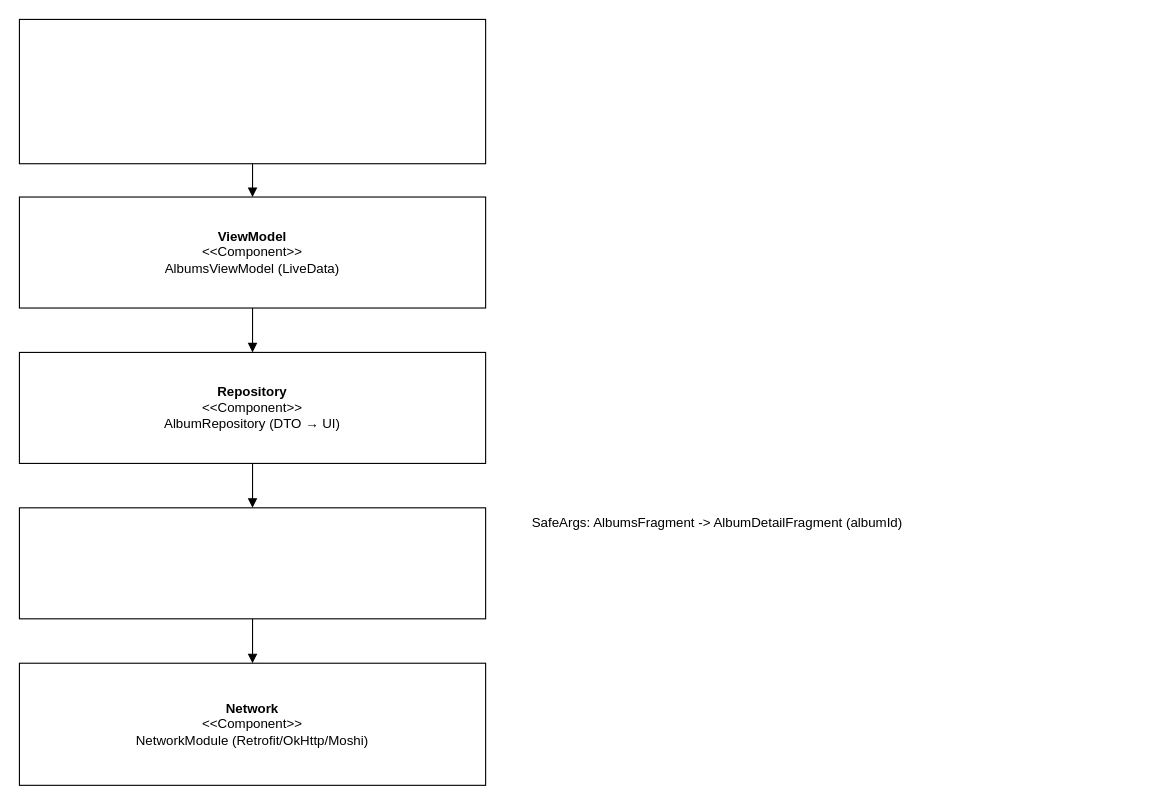
Image size: 1149x805. Some labels were removed from this diagram. The shapes that lost their labels are listed below. From the top down, each one's box as (x1, y1, x2, y2) in pixels, then its label:
(18, 18, 486, 164): UI <<Component>> AlbumsFragment, AlbumsAdapter, AlbumDetailFragment
(18, 507, 486, 619): Service Adapter <<Component>> AlbumsService (Retrofit)
